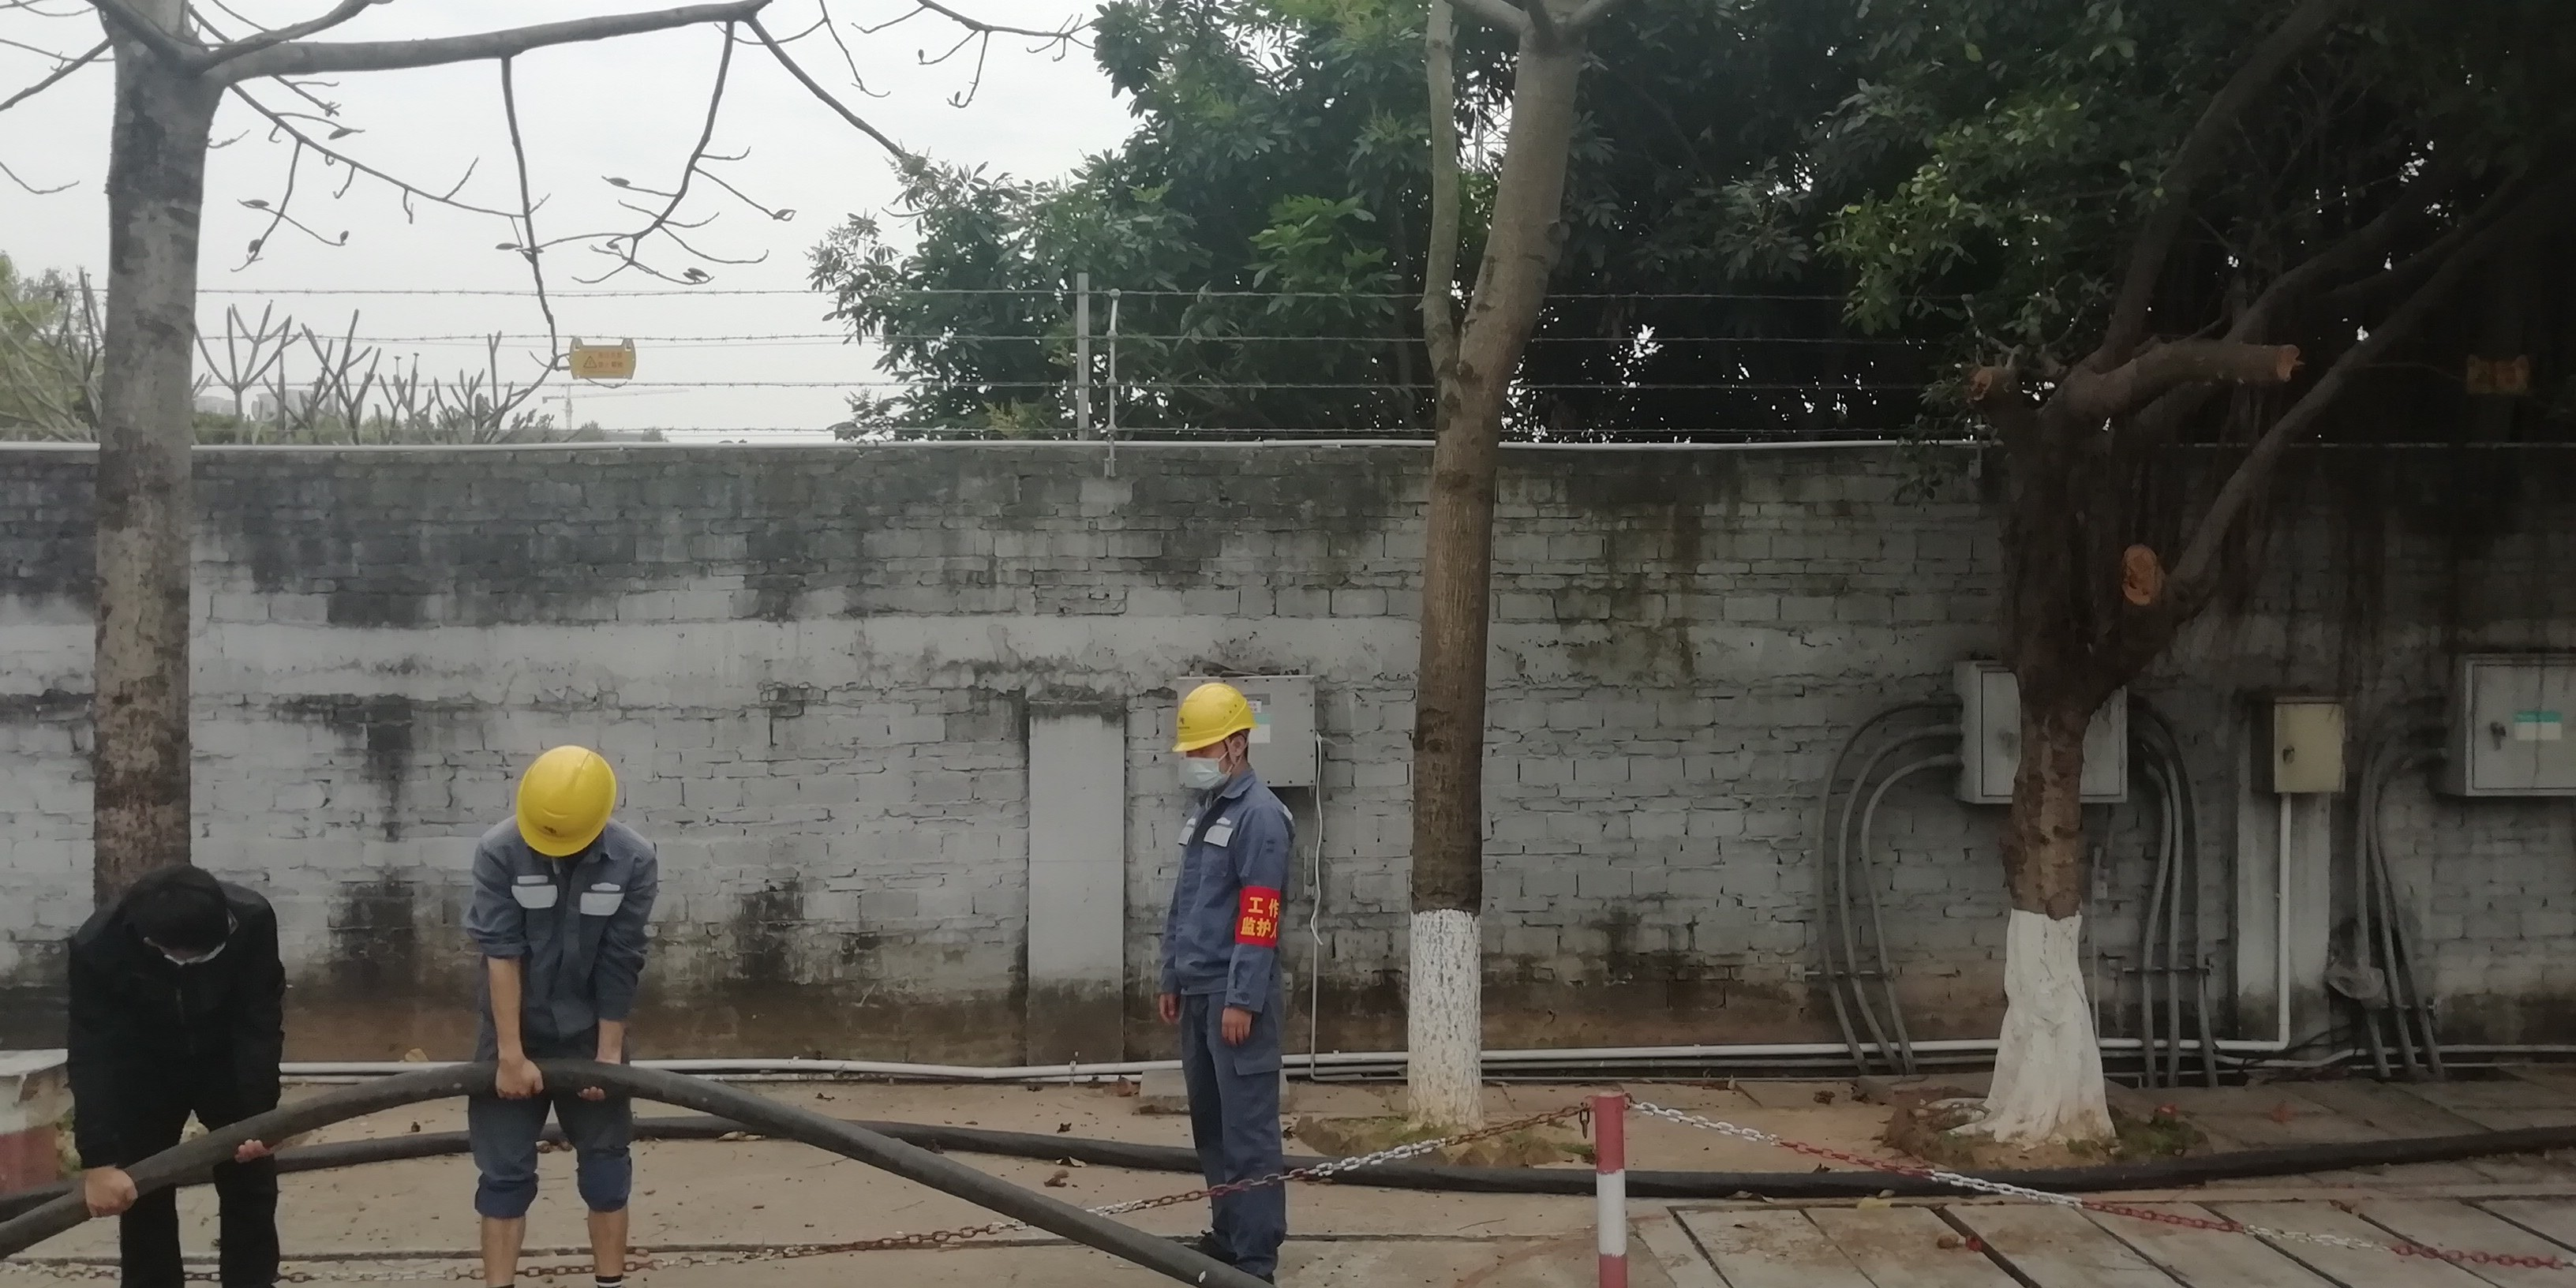downcloth: (90, 1102, 301, 1288)
downsuit: (453, 1017, 651, 1217), (1173, 999, 1308, 1265)
upcloth: (66, 887, 304, 1155)
upsuit: (462, 803, 664, 1056), (1158, 777, 1298, 1012)
wrongbottom: (570, 1163, 651, 1286), (465, 1171, 540, 1288)
wrongtop: (468, 922, 545, 1096)
